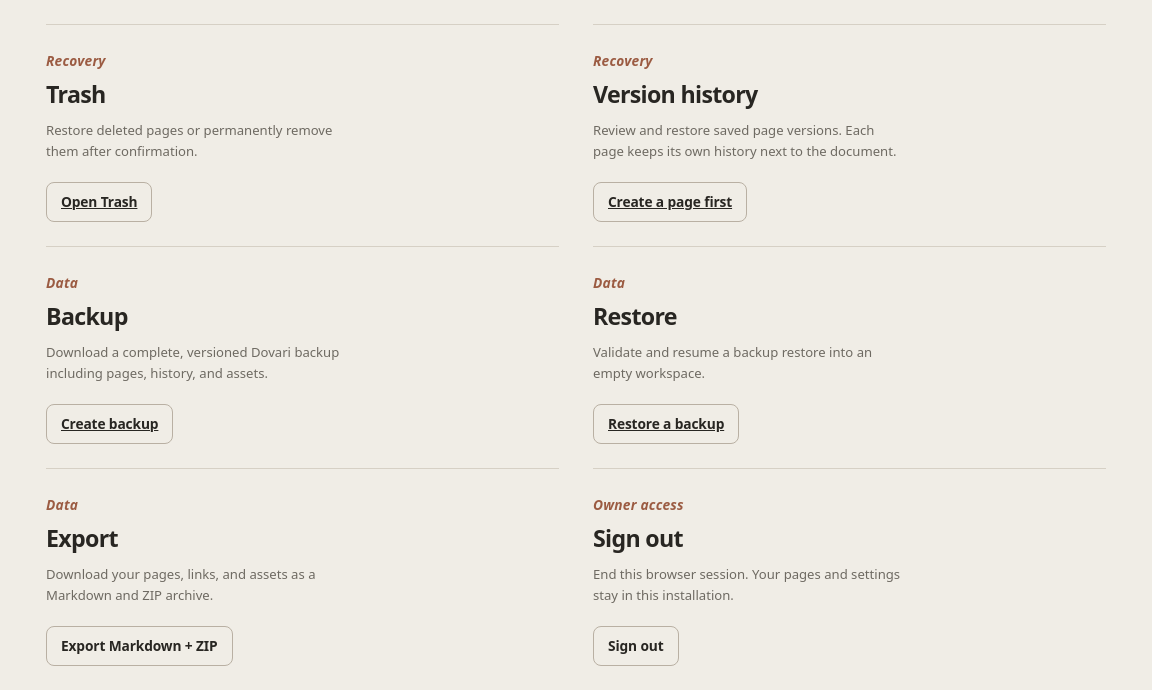
Scenario: SettingsPage owner access › keeps a retryable error visible when logout fails
(page scrolled)
Click the button "Sign out" at (636, 646), box x1=593 y1=626 x2=678 y2=666
(page scrolled)
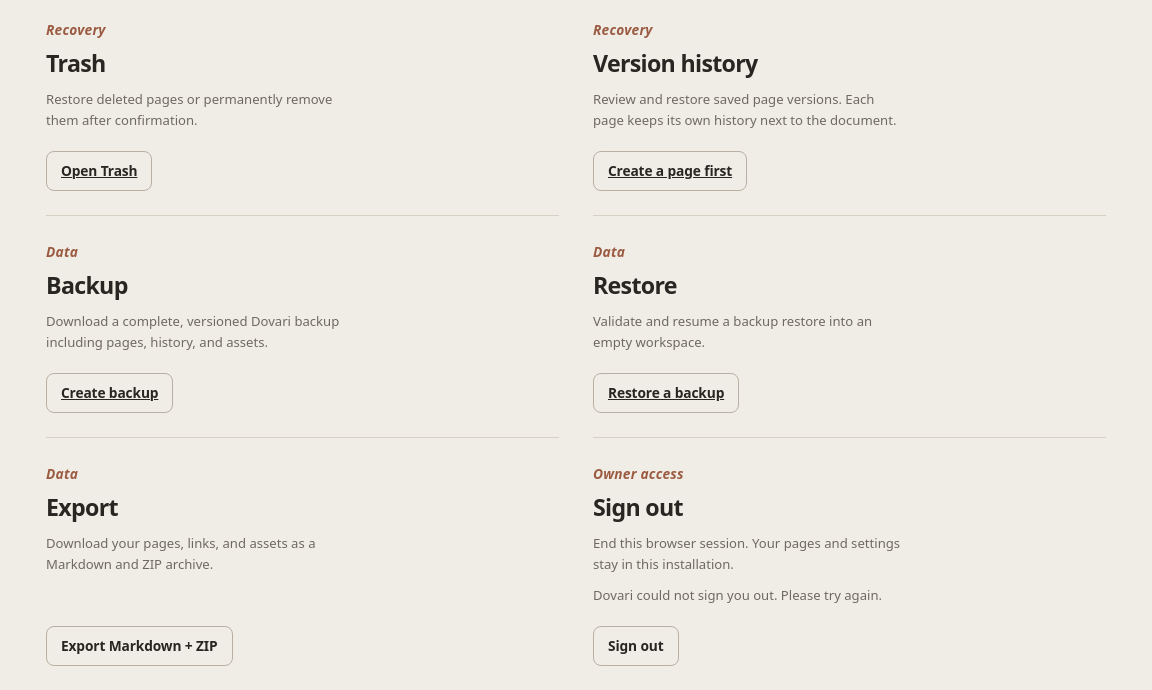
Expected: the message shows "could not sign you out", x1=593 y1=586 x2=882 y2=604
